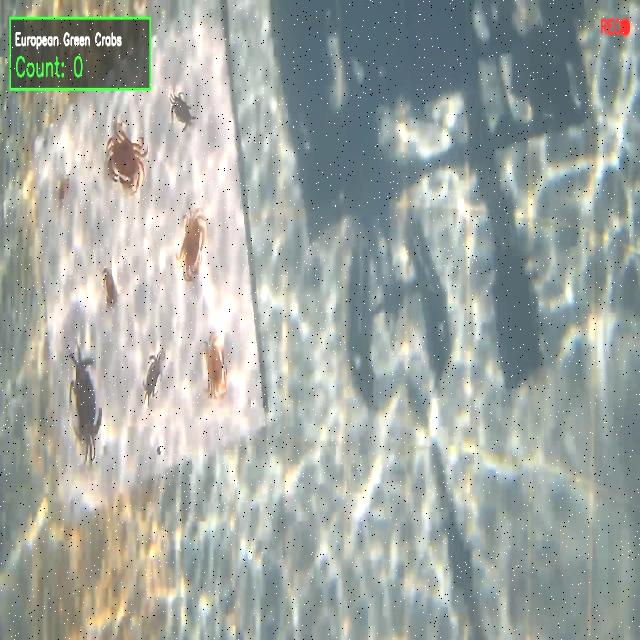European_Green_Crab: (65, 346, 103, 467), (136, 343, 175, 415), (165, 79, 198, 139)
